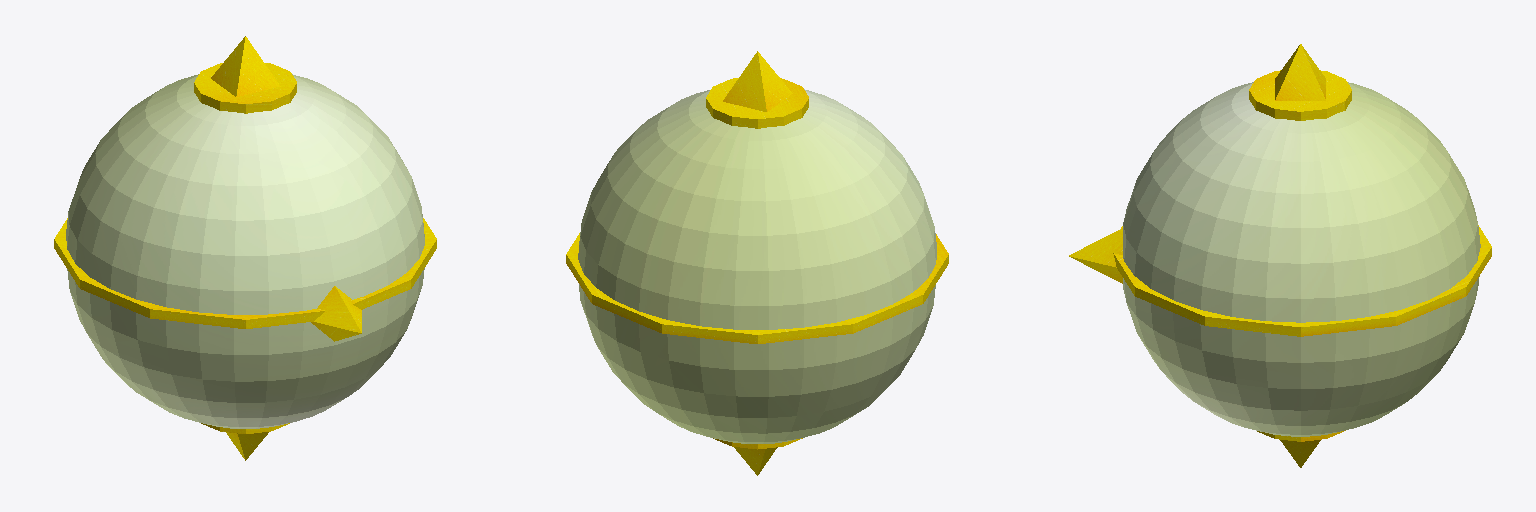
The picture shows the model from 3 angles: view 1: azimuth 30°, elevation 25°; view 2: azimuth 150°, elevation 25°; view 3: azimuth 270°, elevation 25°; orthographic projection.
Parts seen in each view (by area): view 1: Sphere001, Centro, Spindle002, Pyramid002, CentroPy, Pyramid003; view 2: Sphere001, Centro, Spindle002, Pyramid002, Pyramid003; view 3: Sphere001, Centro, Spindle002, Pyramid002, CentroPy, Pyramid003.
Boxes of the visible parts, x1,y1,x2,y2 form: Sphere001: [66, 74, 424, 428]; Centro: [54, 218, 436, 328]; Spindle002: [194, 63, 296, 113]; Pyramid002: [211, 36, 280, 96]; CentroPy: [311, 286, 361, 341]; Pyramid003: [226, 432, 268, 460]; Sphere001: [578, 89, 936, 443]; Centro: [566, 233, 948, 343]; Spindle002: [706, 78, 808, 128]; Pyramid002: [723, 51, 792, 111]; Pyramid003: [734, 447, 777, 475]; Sphere001: [1123, 82, 1480, 436]; Centro: [1113, 225, 1491, 336]; Spindle002: [1249, 70, 1351, 120]; Pyramid002: [1275, 44, 1325, 100]; CentroPy: [1069, 228, 1122, 283]; Pyramid003: [1280, 440, 1320, 467].
Bounding box in the file's own units: 7.4 × 9.07 × 8.2.
2 materials, 2 textured.